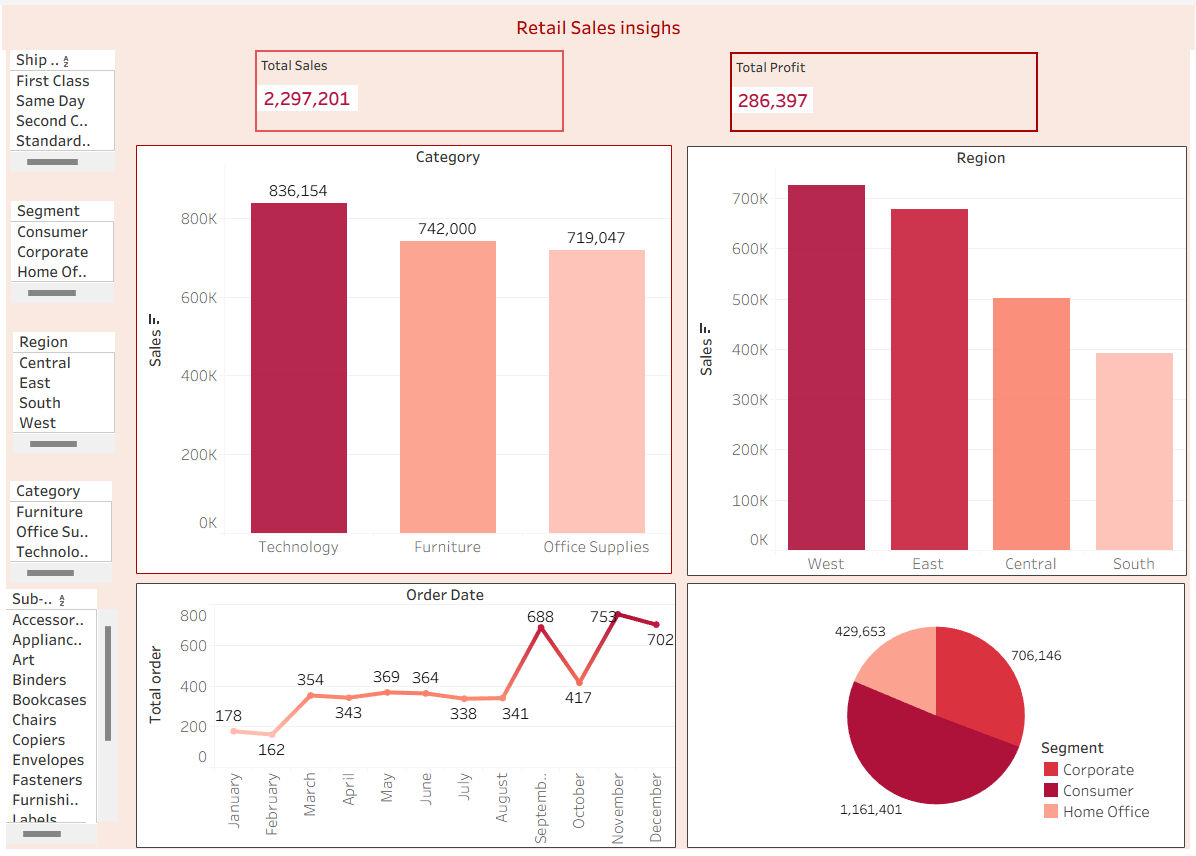

What the dashboard file says about the page in this screenshot:
{"tool":"tableau","page":{"name":"Dashboard 1","canvas":[1000,1000],"units":"permille","ordinal":0},"visuals":[{"type":"worksheet","title":"Sheet 10","mark":"Automatic","box":[6.7,9.4,986.7,981.2]},{"type":"worksheet","title":"Sheet 14","mark":"Automatic","rows":["Ship Mode"],"box":[10,52.8,87.5,149.1]},{"type":"worksheet","title":"Sheet 9","mark":"Automatic","box":[214.2,52.8,257.5,96.2]},{"type":"worksheet","title":"Sheet 11","mark":"Automatic","box":[610,55.2,256.7,93.9]},{"type":"worksheet","title":"Sheet 2","mark":"Bar","rows":["Sales"],"cols":["Category"],"box":[115,164.3,446.7,503.5]},{"type":"worksheet","title":"Sheet 3","mark":"Automatic","rows":["Sales"],"cols":["Region"],"box":[573.9,165.8,416.9,504.3]},{"type":"worksheet","title":"Sheet 15","mark":"Automatic","rows":["Segment"],"box":[10.8,230.1,85.8,126.8]},{"type":"worksheet","title":"Sheet 17","mark":"Automatic","rows":["Region"],"box":[12.5,383.8,85,144.4]},{"type":"worksheet","title":"Sheet 18","mark":"Automatic","rows":["Category"],"box":[10,558.7,85,126.8]},{"type":"worksheet","title":"Sheet 4","mark":"Automatic","rows":["Calculation_0124029494751236"],"cols":["Order Date"],"box":[115,678.4,450,311]},{"type":"worksheet","title":"Sheet 7","mark":"Pie","box":[573.9,678.6,415.4,311.1]},{"type":"worksheet","title":"Sheet 16","mark":"Automatic","rows":["Sub-Category"],"box":[6.7,685.5,93.3,299.3]}]}

Visuals, with their boxes on the dashboard's canvas, which has no fixed pixel size, in thousandths of its width and height (x1, y1, x2, y2). These are canvas units, not pixel positions in the 1196x856 screenshot, which may show the page scaled, cropped or inside an application window:
"Sheet 10" worksheet: [x1=7, y1=9, x2=993, y2=991]
"Sheet 14" worksheet: [x1=10, y1=53, x2=98, y2=202]
"Sheet 9" worksheet: [x1=214, y1=53, x2=472, y2=149]
"Sheet 11" worksheet: [x1=610, y1=55, x2=867, y2=149]
"Sheet 2" worksheet (Bar marks): [x1=115, y1=164, x2=562, y2=668]
"Sheet 3" worksheet: [x1=574, y1=166, x2=991, y2=670]
"Sheet 15" worksheet: [x1=11, y1=230, x2=97, y2=357]
"Sheet 17" worksheet: [x1=12, y1=384, x2=98, y2=528]
"Sheet 18" worksheet: [x1=10, y1=559, x2=95, y2=686]
"Sheet 4" worksheet: [x1=115, y1=678, x2=565, y2=989]
"Sheet 7" worksheet (Pie marks): [x1=574, y1=679, x2=989, y2=990]
"Sheet 16" worksheet: [x1=7, y1=686, x2=100, y2=985]
